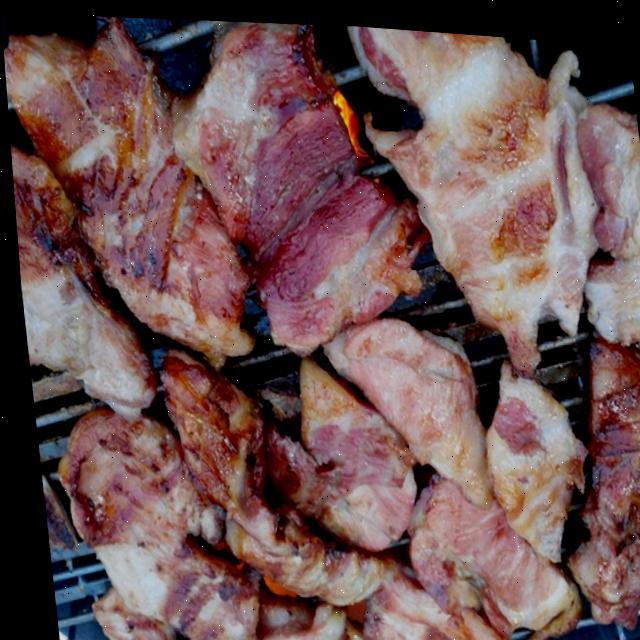猪肉菜式: (3, 12, 640, 640)
